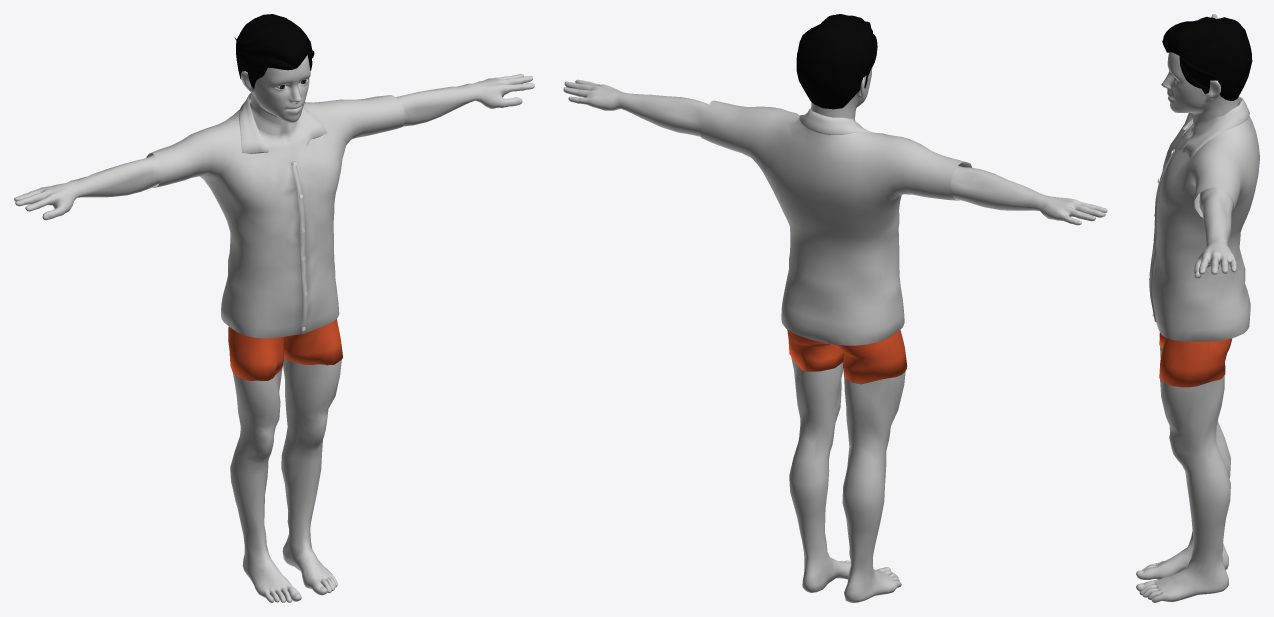
Rendered from man.fbx.
The picture shows the model from 3 angles, left to right: view 1: azimuth 30°, elevation 25°; view 2: azimuth 150°, elevation 25°; view 3: azimuth 270°, elevation 25°; orthographic projection. The views are drawn at different scales.
Parts seen in each view (by area): view 1: Shirt, Body, Shots, Hair; view 2: Shirt, Body, Hair, Shots; view 3: Shirt, Body, Hair, Shots.
Part boxes in pixels (bbox=[...]): Shirt: bbox=[146, 92, 404, 338]; Body: bbox=[14, 55, 534, 602]; Shots: bbox=[228, 319, 342, 380]; Hair: bbox=[234, 14, 314, 88]; Shirt: bbox=[700, 100, 971, 345]; Body: bbox=[563, 67, 1107, 602]; Hair: bbox=[796, 14, 877, 109]; Shots: bbox=[787, 329, 907, 384]; Shirt: bbox=[1149, 96, 1259, 341]; Body: bbox=[1136, 14, 1238, 602]; Hair: bbox=[1162, 16, 1252, 100]; Shots: bbox=[1159, 333, 1232, 387].
Bounding box in the file's own units: 1664 × 1706 × 338.
